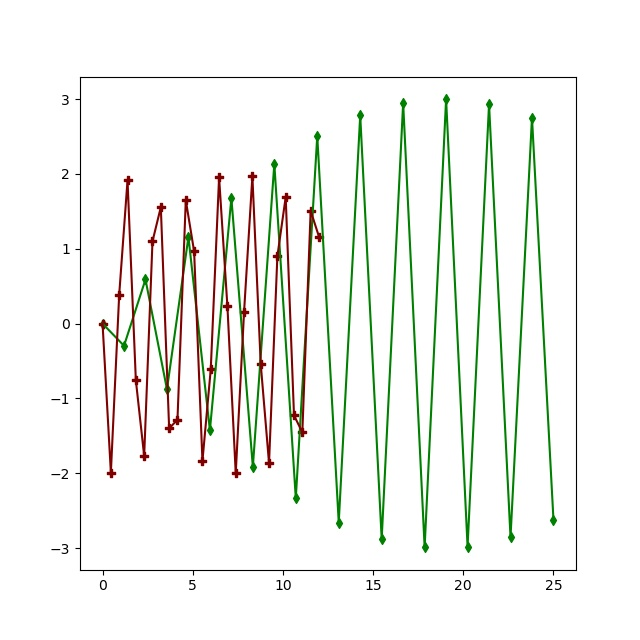plus: (98, 319, 109, 330), (106, 468, 117, 479), (114, 290, 125, 301), (123, 175, 134, 186), (131, 375, 142, 386), (139, 451, 150, 462), (147, 236, 158, 247), (156, 202, 167, 213), (164, 423, 175, 434), (172, 415, 183, 426), (181, 195, 192, 206), (189, 246, 200, 257), (197, 456, 208, 467), (206, 364, 217, 375), (214, 172, 225, 183), (222, 301, 233, 312), (231, 468, 242, 479), (239, 307, 250, 318), (247, 171, 258, 182), (256, 359, 267, 370), (264, 458, 275, 469), (272, 251, 283, 262), (281, 192, 292, 203), (289, 410, 300, 421), (297, 427, 308, 438), (306, 206, 317, 217), (314, 232, 325, 243)
thin_diamond: (98, 319, 108, 329), (120, 341, 130, 351), (141, 275, 151, 285), (162, 385, 172, 395), (184, 233, 194, 243), (205, 426, 215, 436), (227, 193, 237, 203), (248, 463, 258, 473), (270, 159, 280, 169), (291, 494, 301, 504), (313, 131, 323, 141), (334, 518, 344, 528), (356, 111, 366, 121), (377, 535, 387, 545), (399, 98, 409, 108), (420, 543, 430, 553), (442, 95, 452, 105), (463, 542, 473, 552), (485, 100, 495, 110), (506, 533, 516, 543), (527, 113, 537, 123), (549, 515, 559, 525)
